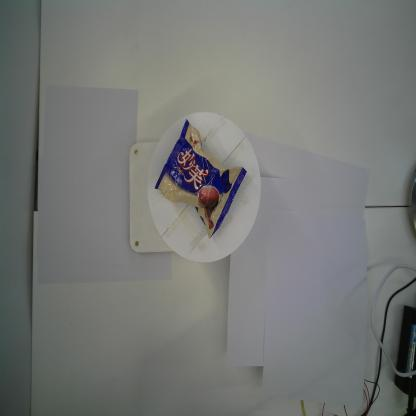Dessert: (152, 116, 250, 242)
